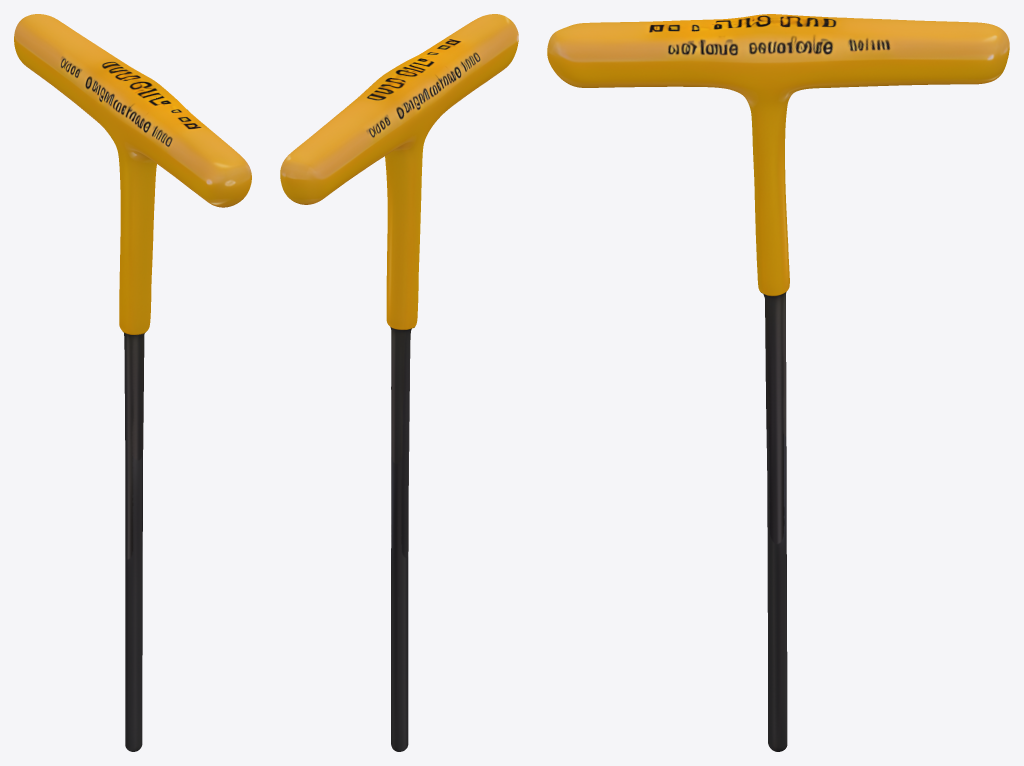
Rendered from base_basic_shaded.fbx.
3 views of the same model, side by side, from view 1: azimuth 30°, elevation 25°; view 2: azimuth 150°, elevation 25°; view 3: azimuth 270°, elevation 25° (orthographic). The views are drawn at different scales.
Visible parts, largest first — view 1: model; view 2: model; view 3: model.
Part boxes in pixels (x1=…): model: x1=14, y1=14, x2=251, y2=751; model: x1=280, y1=14, x2=518, y2=751; model: x1=547, y1=14, x2=1009, y2=751.
Bounding box in the file's own units: 15.72 × 179 × 103.
